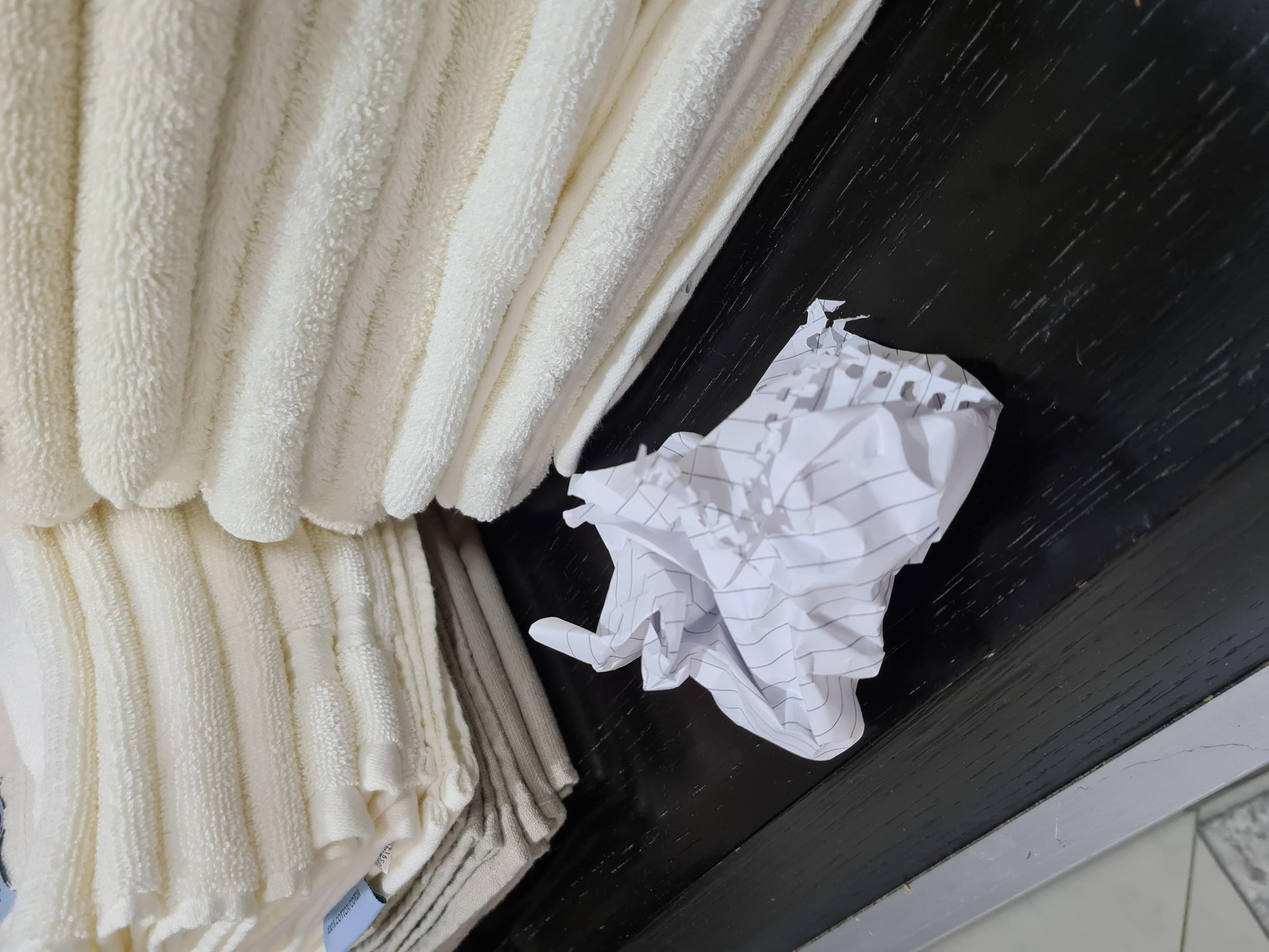paper: (245, 392, 844, 752)
